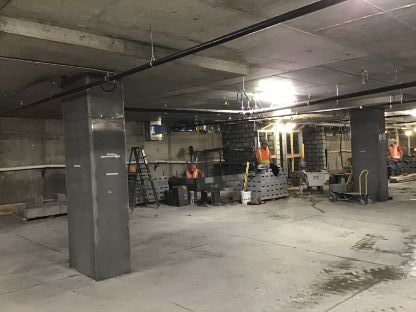Duct: (170, 119, 225, 136), (140, 115, 172, 143)
